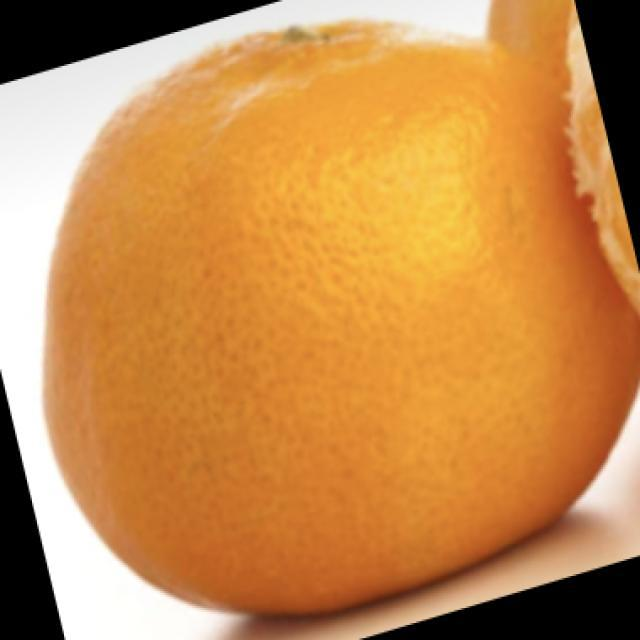matang: (47, 23, 639, 611)
